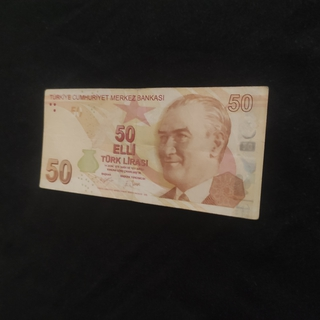50TLFront: (39, 85, 269, 220)
